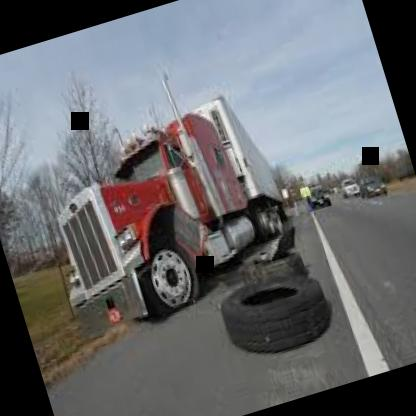accident: (18, 82, 342, 407)
